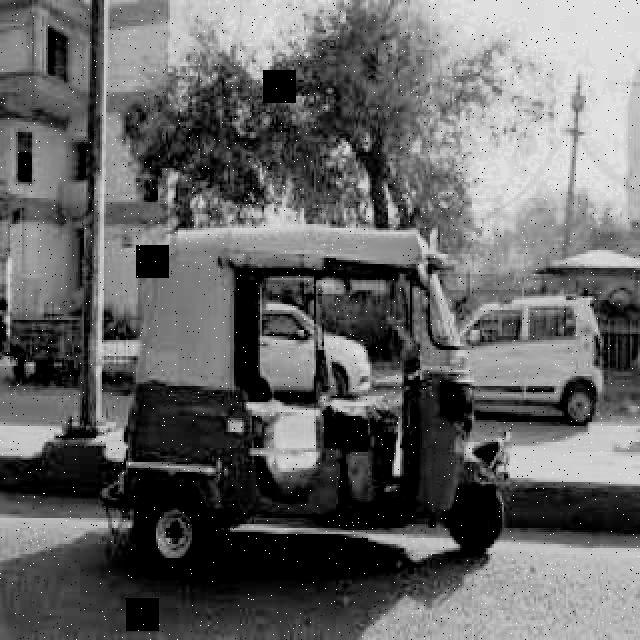Auto-Rickshaw: (118, 212, 514, 554)
